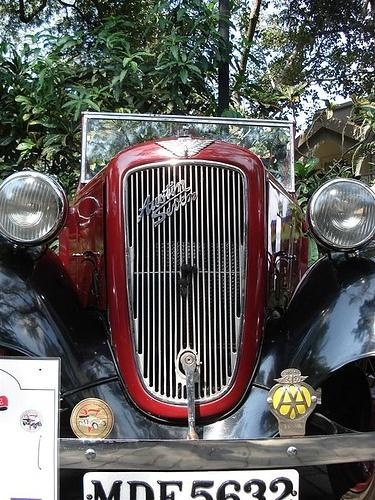car: (2, 109, 375, 500)
